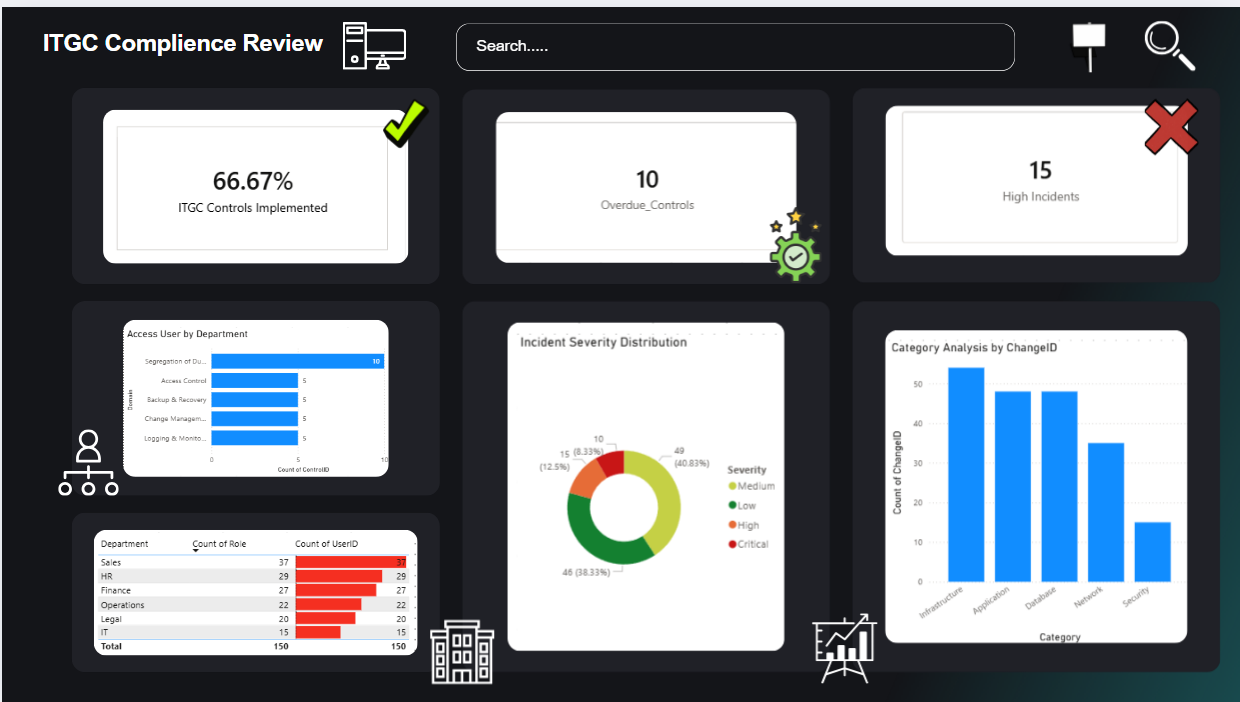

Layout of this report page (visuals, bound fields, positions):
{"tool":"powerbi","page":{"name":"Page 1","canvas":[1280,720],"ordinal":0},"visuals":[{"type":"textbox","box":[0,0,1280,64],"z":1000},{"type":"cardVisual","fields":{"Data":["ITGCControls.ITGC_Implemented_Pct"]},"box":[0,64,400,208],"z":2000},{"type":"cardVisual","fields":{"Data":["ITGCControls.Overdue_Controls"]},"box":[400,64,480,208],"z":3000},{"type":"cardVisual","fields":{"Data":["ITGCControls.High Incidents"]},"box":[880,64,400,208],"z":4000},{"type":"barChart","title":"Access User by Department","fields":{"Y":["CountNonNull(ITGCControls.ControlID)"],"Category":["ITGCControls.Domain"]},"box":[0,272,480,256],"z":5000},{"type":"donutChart","title":"Incident Severity Distribution","fields":{"Category":["Incidents.Severity"],"Y":["CountNonNull(Incidents.IncidentID)"]},"box":[496,288,352,432],"z":6000},{"type":"tableEx","fields":{"Values":["UserAccess.Department","CountNonNull(UserAccess.Role)","CountNonNull(UserAccess.UserID)"]},"box":[0,528,480,192],"z":6001},{"type":"columnChart","title":"Category Analysis by ChangeID","fields":{"Category":["ChangeManagement.Category"],"Y":["CountNonNull(ChangeManagement.ChangeID)"]},"box":[848,288,432,432],"z":6002}]}

Visuals, with their boxes in screenshot pixels (x1, y1, x2, y2), scaled from the page's 1280x720 canvas onto the 1240x702 screenshot:
textbox: (0,0,1239,62)
cardVisual - ITGCControls.ITGC_Implemented_Pct: (0,62,388,265)
cardVisual - ITGCControls.Overdue_Controls: (388,62,852,265)
cardVisual - ITGCControls.High Incidents: (852,62,1239,265)
"Access User by Department" barChart: (0,265,465,515)
"Incident Severity Distribution" donutChart: (480,281,822,701)
tableEx - UserAccess.Department x CountNonNull(UserAccess.Role): (0,515,465,701)
"Category Analysis by ChangeID" columnChart: (822,281,1239,701)
